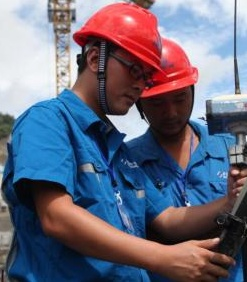hard-hat: (72, 0, 166, 75)
vest: (0, 87, 155, 282)
